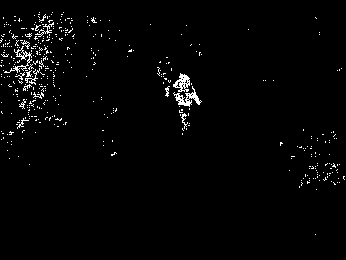person: (173, 72, 201, 134)
